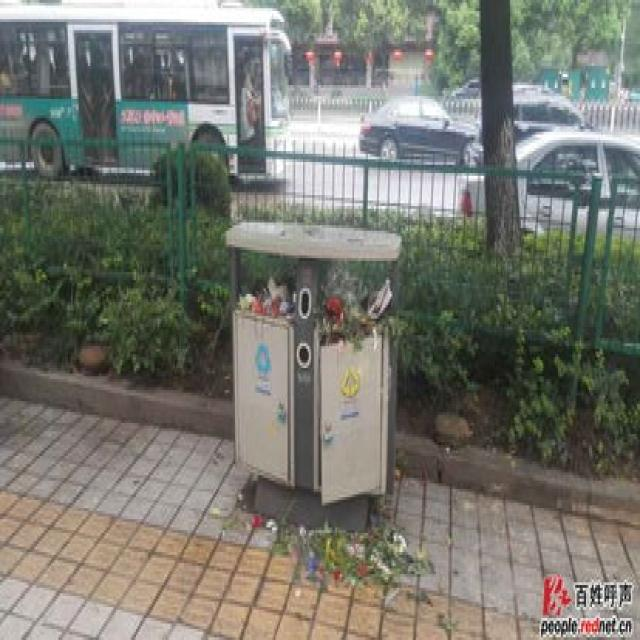garbage: (207, 503, 436, 607)
overflow: (221, 217, 400, 530)
